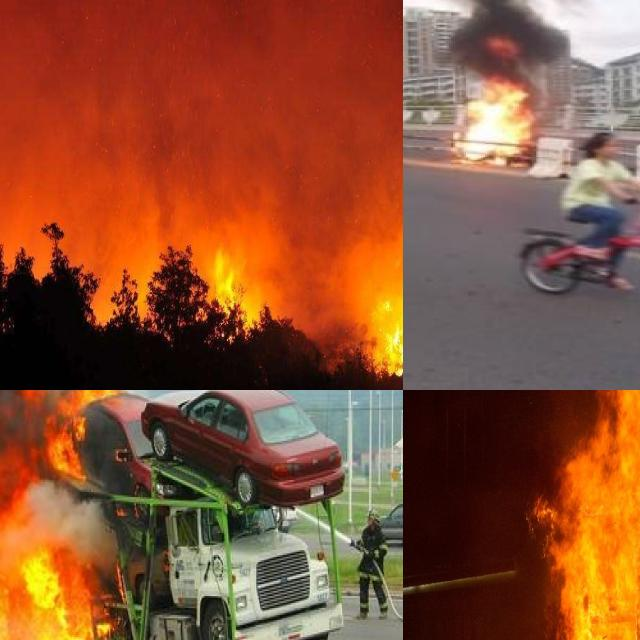fire: (0, 390, 119, 640), (549, 390, 640, 640), (453, 49, 539, 167), (210, 251, 258, 339), (376, 256, 403, 377)
smoke: (0, 0, 403, 340)
